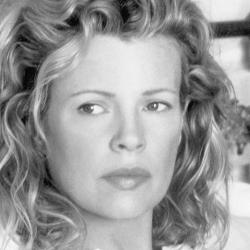face: (2, 7, 232, 236)
